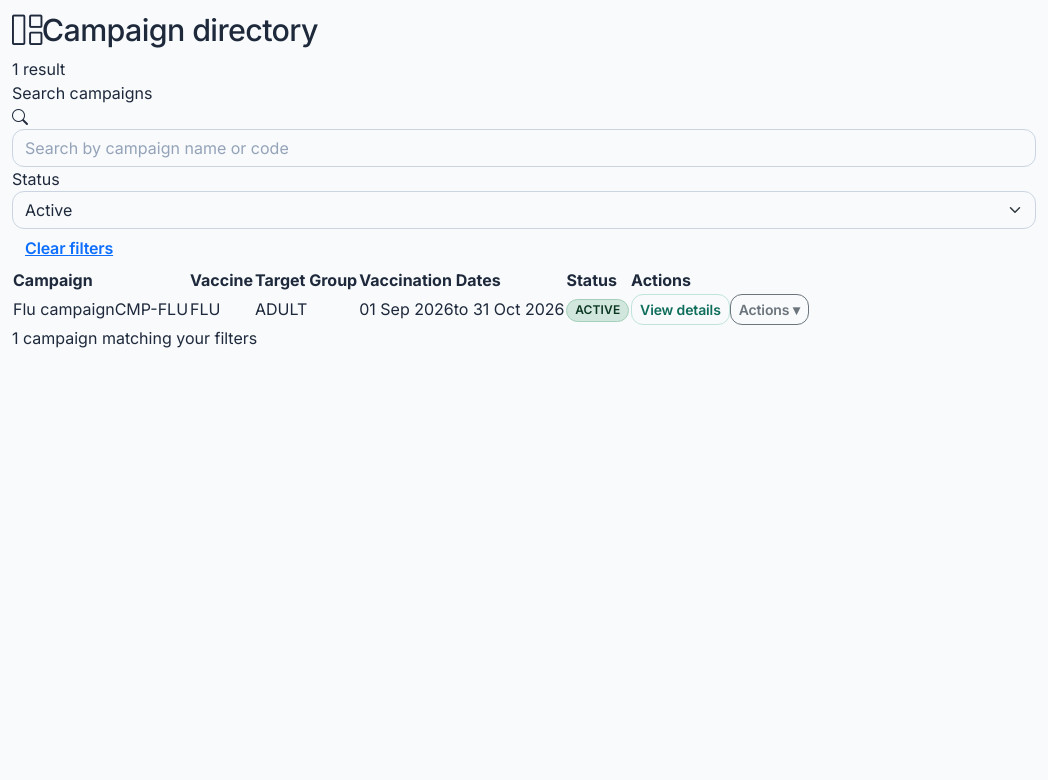
Test: Campaign list navigation › searches names and codes without case or surrounding spaces and clears both filters
Type "  cmp-FLU  " into the search field labelled "Search campaigns" at (524, 148), box [12,128,1036,166]
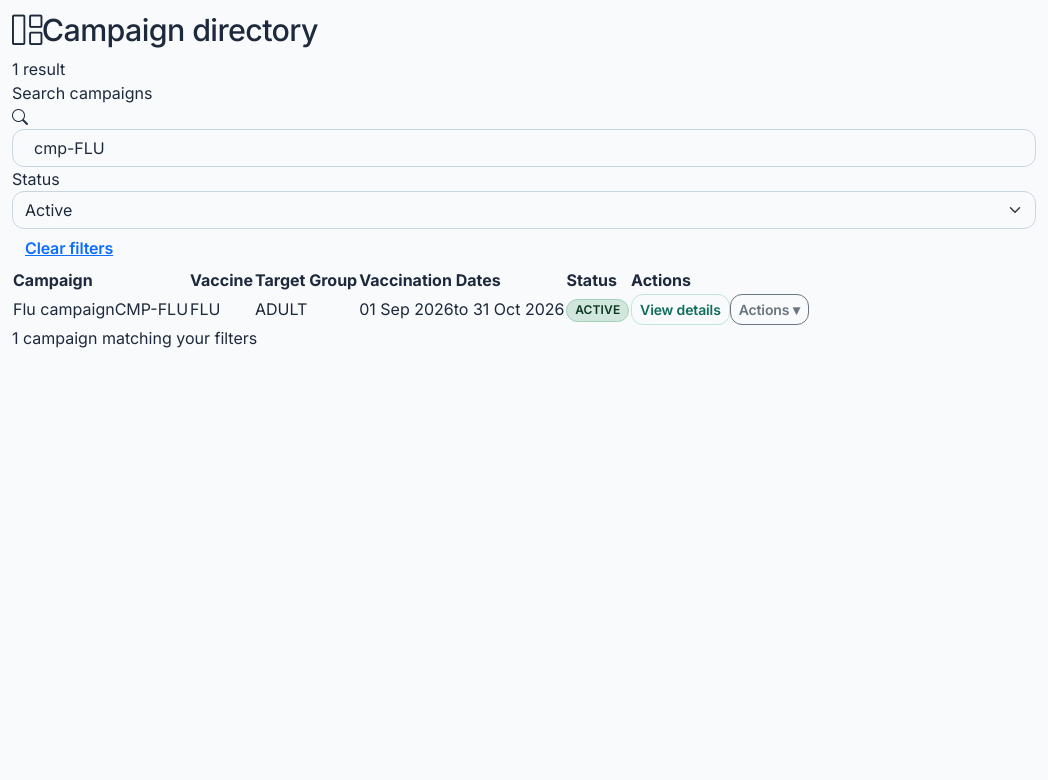
Check: the text "1 campaign matching your filters" is shown, box [12,328,257,348]
Replace the text in the search field labelled "Search campaigns" with " flu CAMPAIGN " at (524, 148), box [12,128,1036,166]
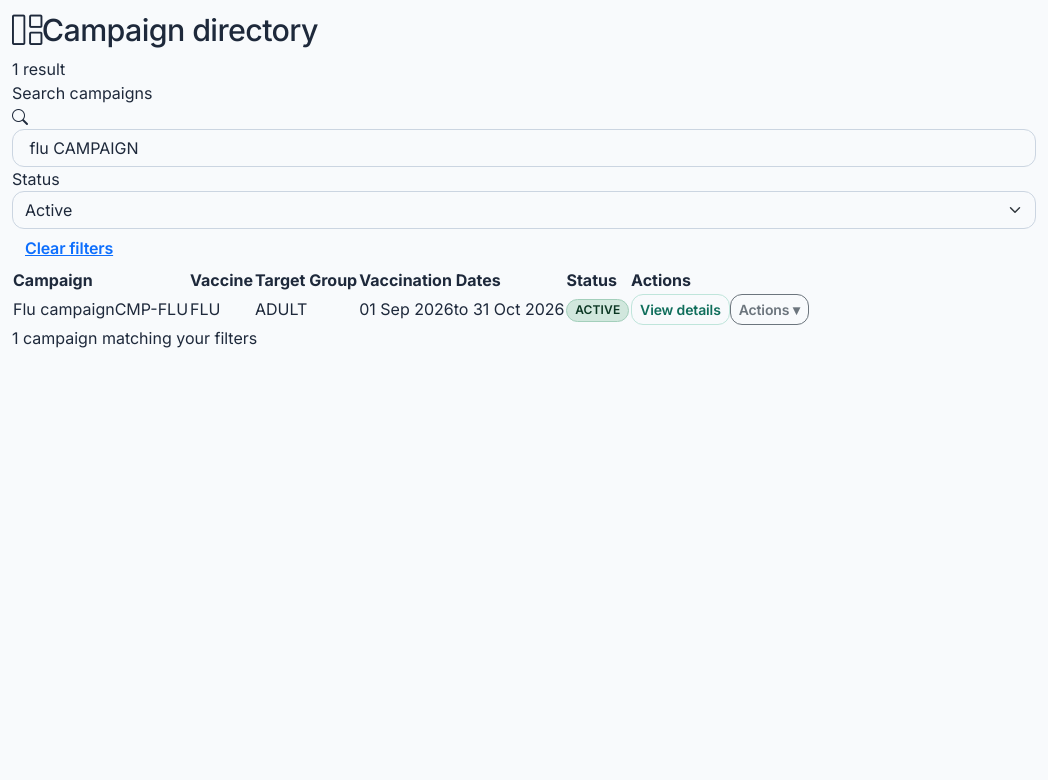
Check: the text "Flu campaign" is shown, box [13,299,115,319]
Replace the text in the search field labelled "Search campaigns" with "missing" at (524, 148), box [12,128,1036,166]
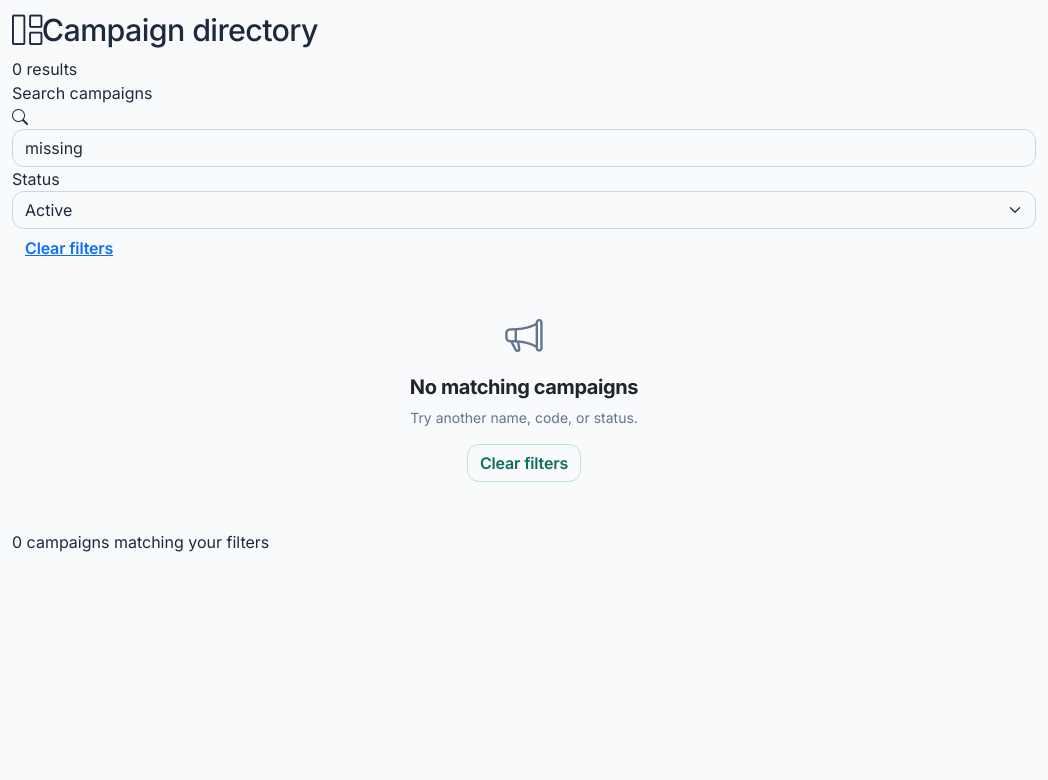
Check: the heading "No matching campaigns" is shown, box [410,375,638,399]
Click the button "Clear filters" below "Search campaigns" at (69, 248), box [12,228,126,266]
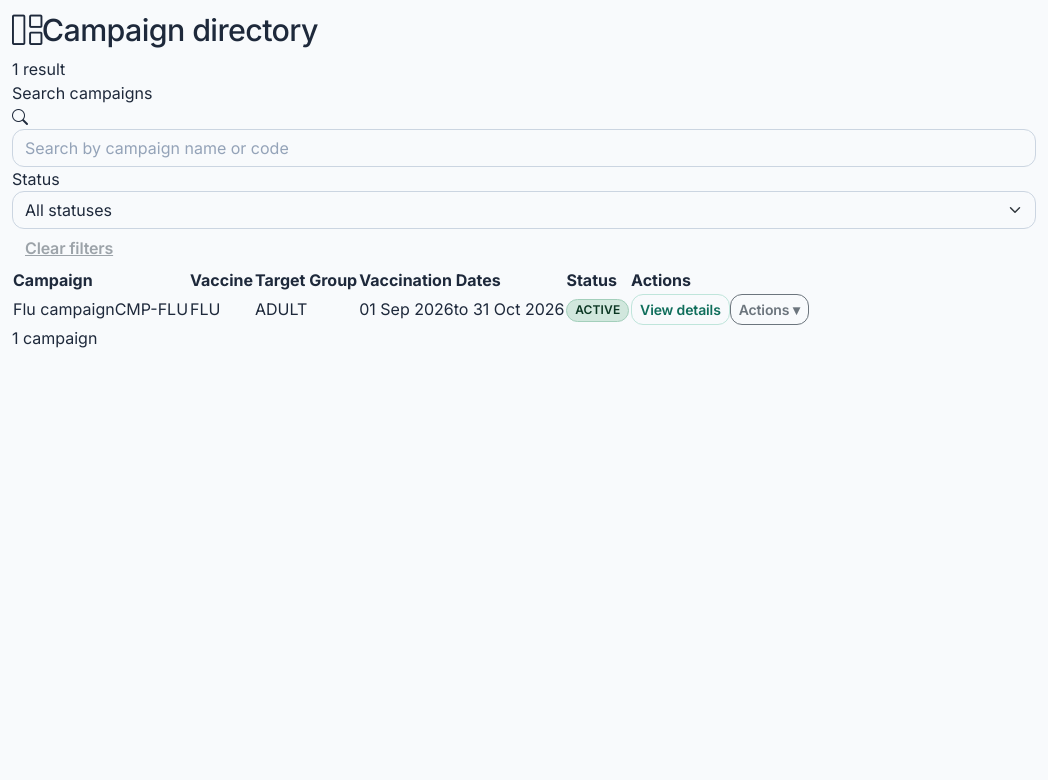
Check: the dropdown labelled "Status" shows "All statuses", box [12,190,1036,228]
Check: the search field labelled "Search campaigns" is empty, box [12,128,1036,166]
Check: the text "1 campaign" is shown, box [12,328,97,348]
